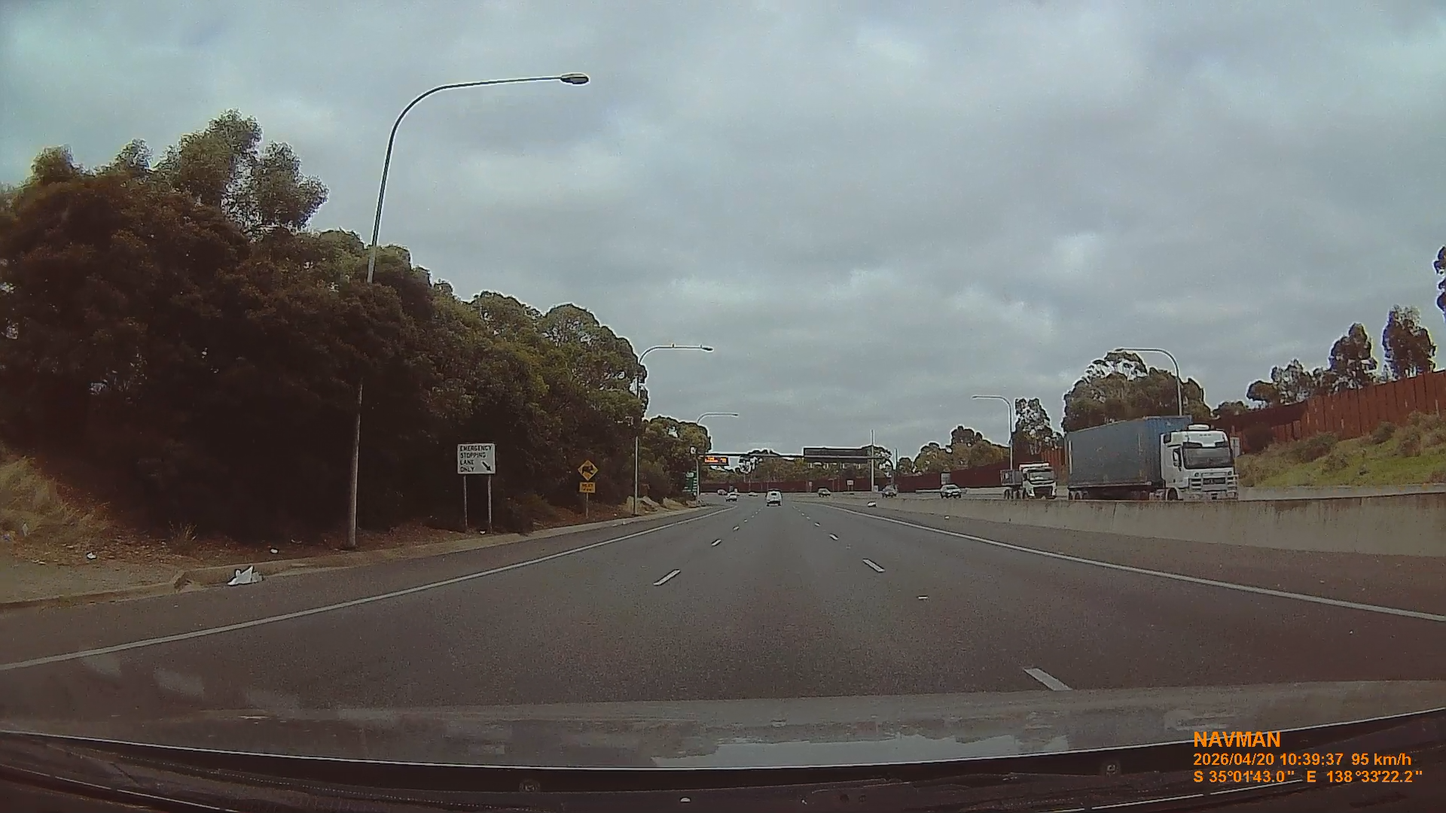road barriers: (886, 487, 1445, 558)
